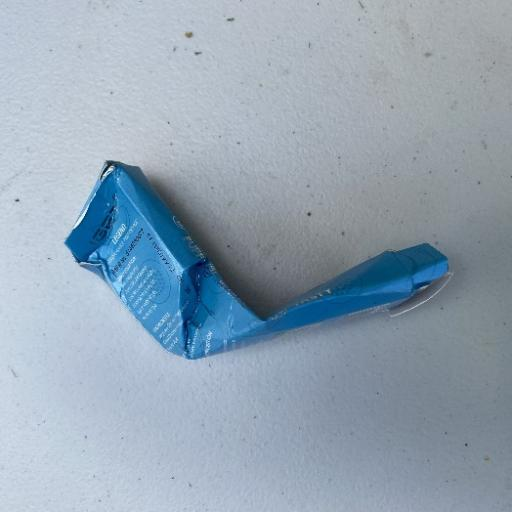Cardboard: (62, 158, 452, 362)
